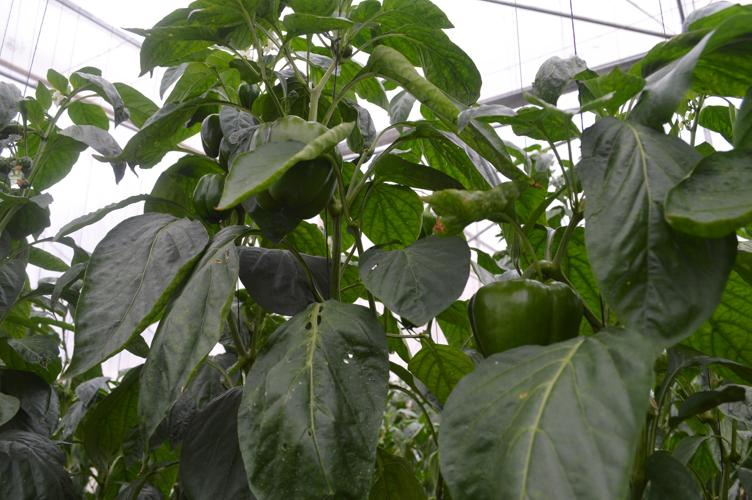BellPepper: (241, 118, 341, 218), (463, 280, 588, 351), (185, 175, 231, 219)
